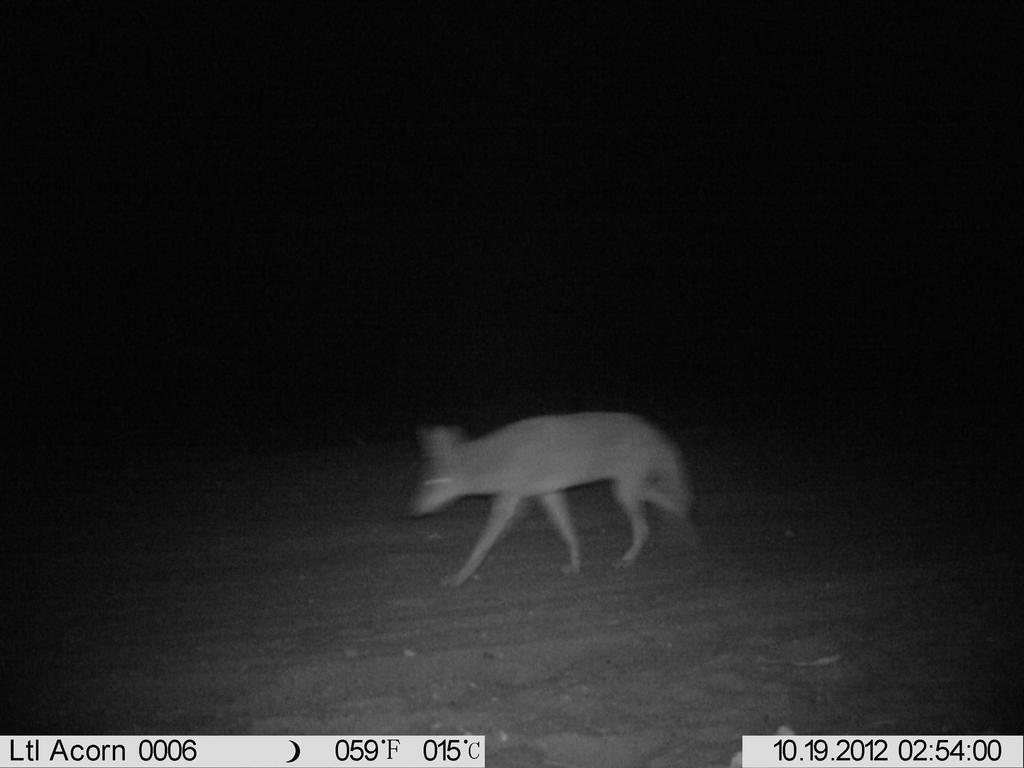coyote: (389, 401, 706, 593)
